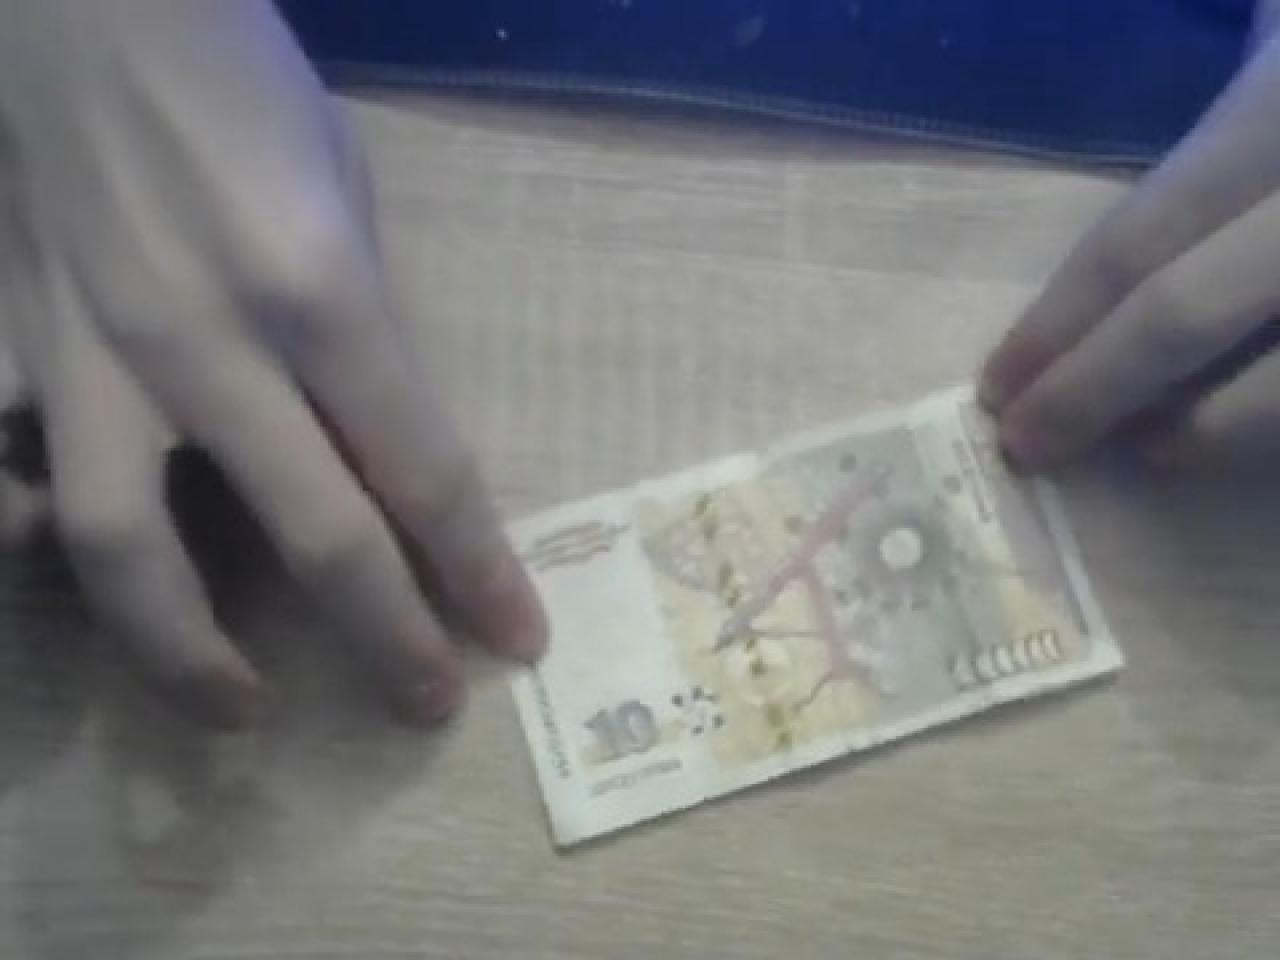10leva: (507, 386, 1126, 856)
